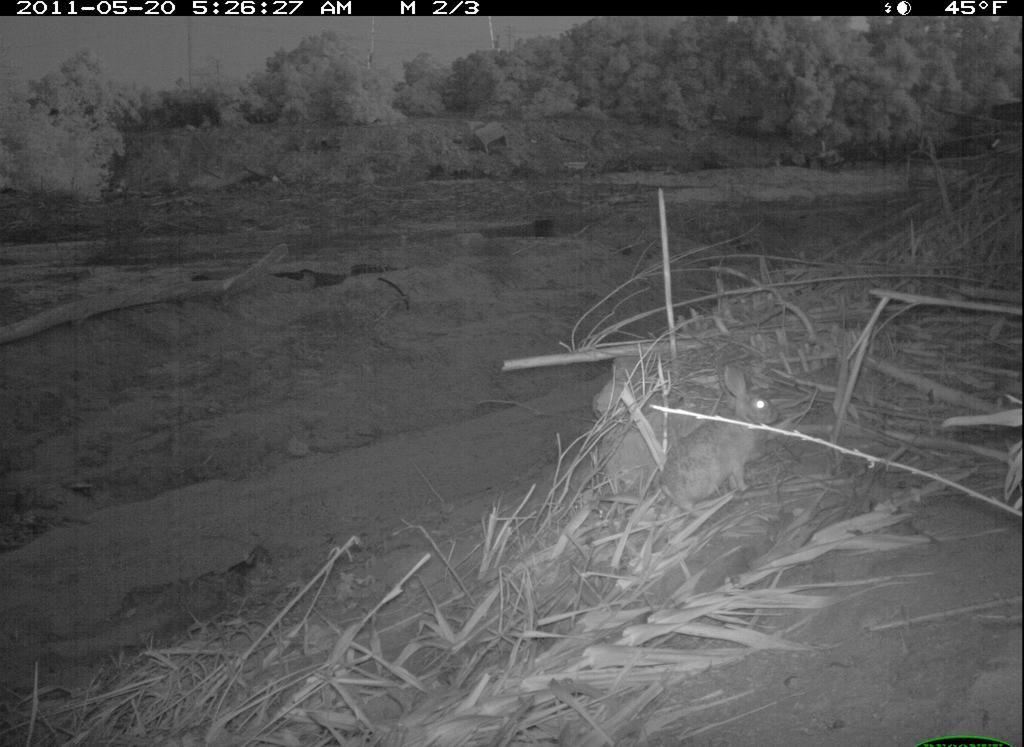rabbit: (648, 356, 795, 519)
